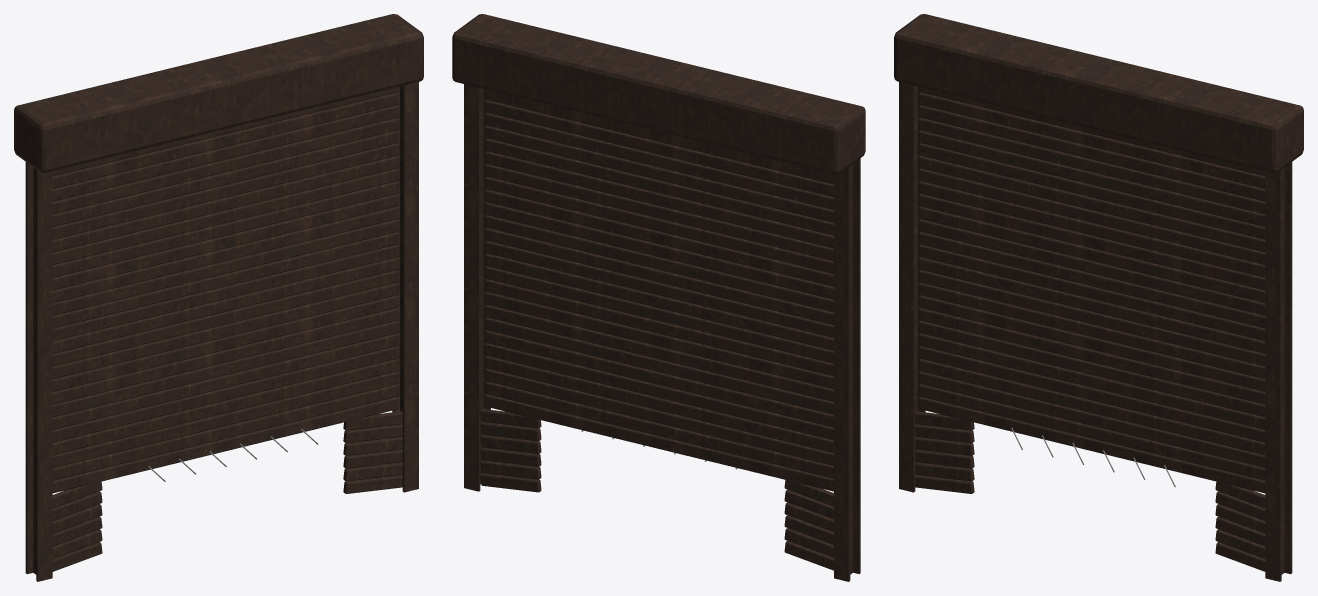
The model's file is lod0_NOT_APPROVED.glb.
The picture shows the model from 3 angles, left to right: view 1: azimuth 30°, elevation 25°; view 2: azimuth 150°, elevation 25°; view 3: azimuth 330°, elevation 25°; orthographic projection.
Visible parts, largest first — view 1: f3_oxidized_iron_surface; view 2: f3_oxidized_iron_surface; view 3: f3_oxidized_iron_surface.
Part boxes in pixels (x1=…): f3_oxidized_iron_surface: x1=14, y1=14, x2=423, y2=581; f3_oxidized_iron_surface: x1=452, y1=14, x2=865, y2=581; f3_oxidized_iron_surface: x1=894, y1=14, x2=1303, y2=581.
Bounding box in the file's own units: 3.9 × 4.46 × 0.52.
Materials: 2 (2 with a texture image).
